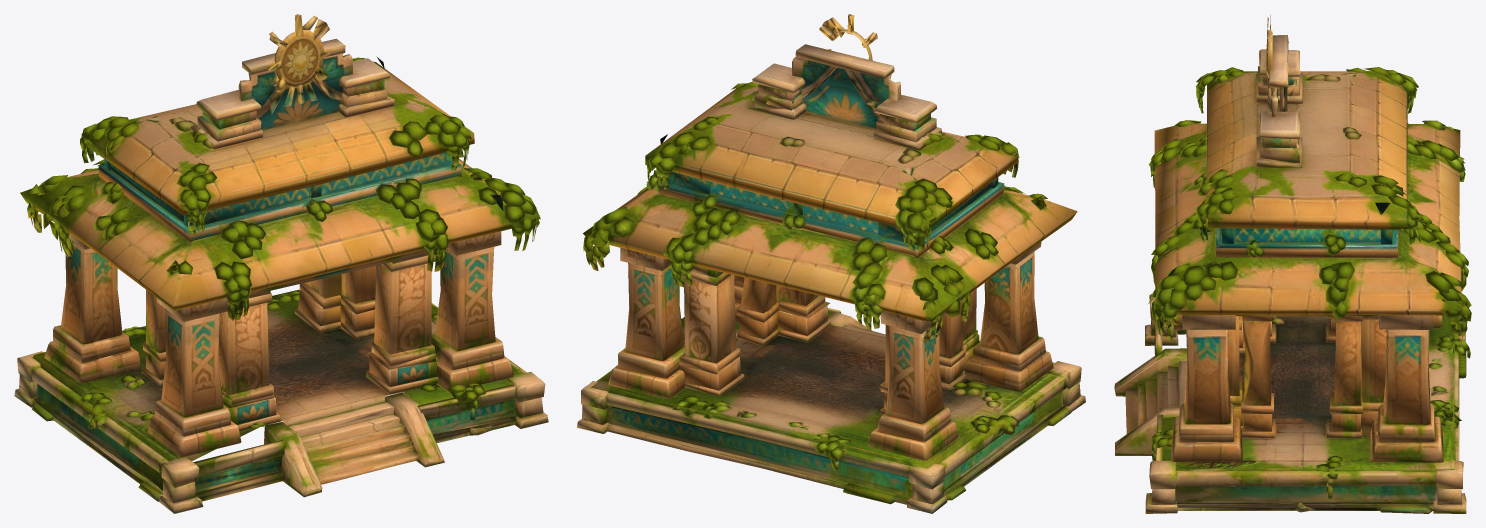
Rendered from temple.glb.
3 views of the same model, side by side, from view 1: azimuth 30°, elevation 25°; view 2: azimuth 150°, elevation 25°; view 3: azimuth 270°, elevation 25° (orthographic). The views are drawn at different scales.
Bounding box in the file's own units: 0.9785 × 1 × 0.7969.
1 material, 1 textured.
